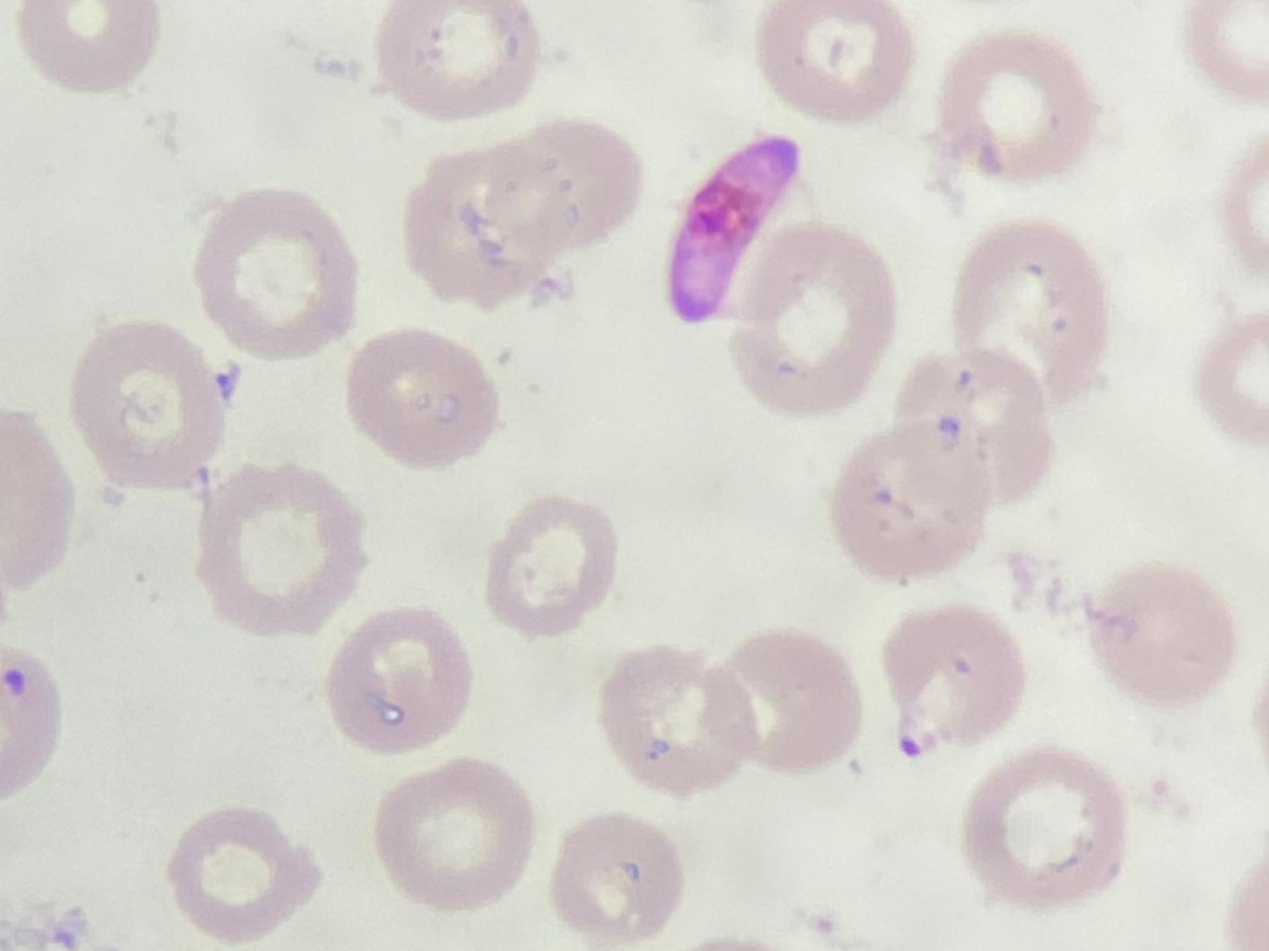Infected: (670, 137, 825, 320)
Uninfected: (725, 221, 896, 408), (950, 219, 1110, 402), (196, 463, 365, 630), (194, 186, 360, 351), (70, 321, 229, 488), (833, 418, 996, 577), (414, 148, 580, 302), (962, 749, 1127, 903), (373, 762, 535, 910), (939, 34, 1093, 180), (604, 645, 753, 795), (485, 120, 646, 258), (325, 607, 476, 754), (912, 348, 1058, 500), (346, 328, 500, 469), (879, 605, 1026, 751), (167, 807, 321, 940), (1089, 564, 1235, 704), (756, 0, 914, 127), (723, 632, 861, 773), (486, 495, 619, 632), (378, 0, 535, 116), (551, 814, 679, 941)
